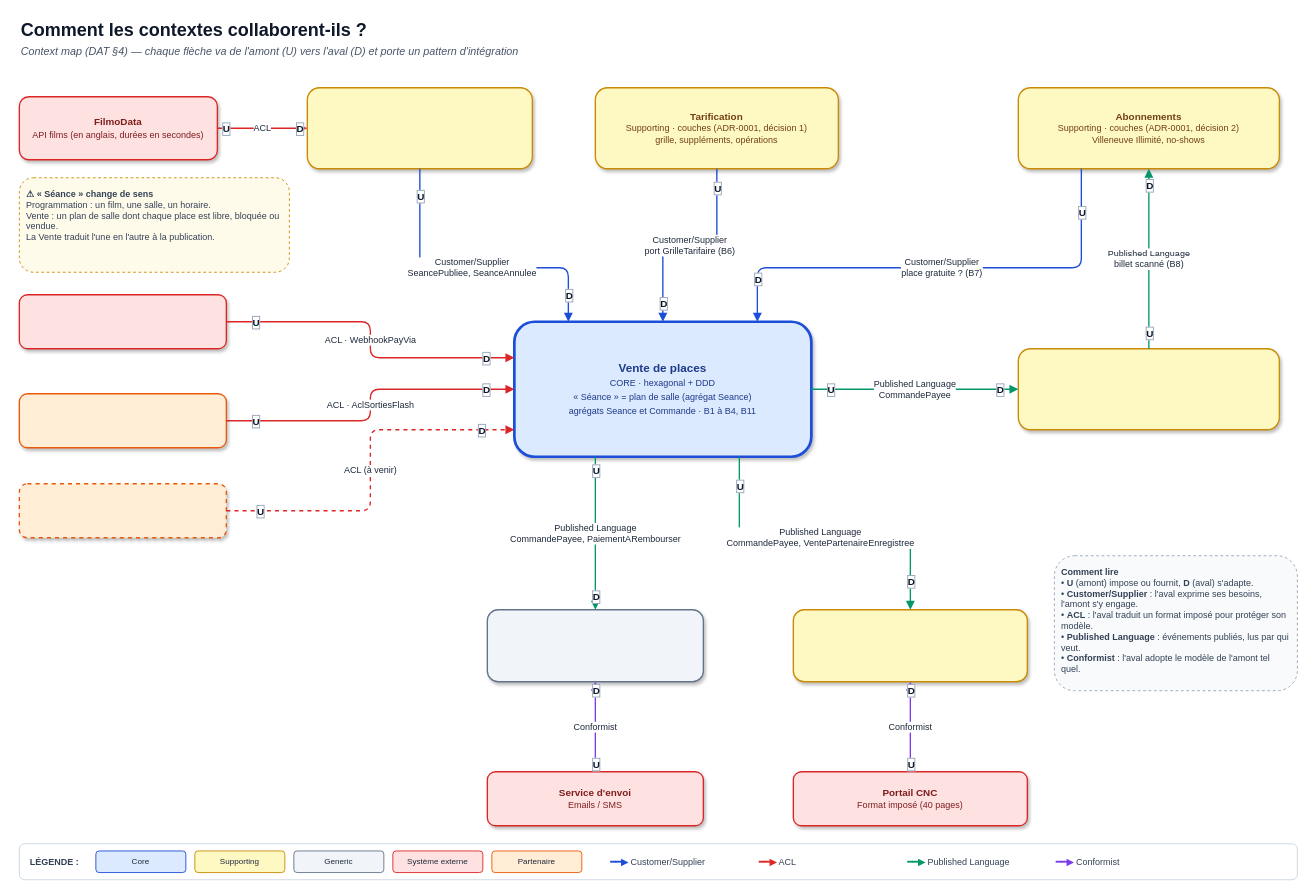
Image size: 1314x896. Some labels were removed from this diagram. Each missing label, with the centre of its shape:
"CinéMalin Partenaire (à brancher)" belongs at (x=123, y=511).
"Contrôle d'accès Supporting · couches + hors ligne (B12)" belongs at (x=1149, y=390).
"Déclaration CNC Supporting · traitement hebdomadaire" belongs at (x=911, y=646).
"Notification Generic · service du marché" belongs at (x=596, y=646).
"PayVia Paiement en ligne (webhook)" belongs at (x=123, y=322).
"Programmation Supporting · CRUD « Séance » = film + salle + horaire" belongs at (x=420, y=129).
"SortiesFlash Partenaire · POST /partner/v2/orders" belongs at (x=123, y=421).
